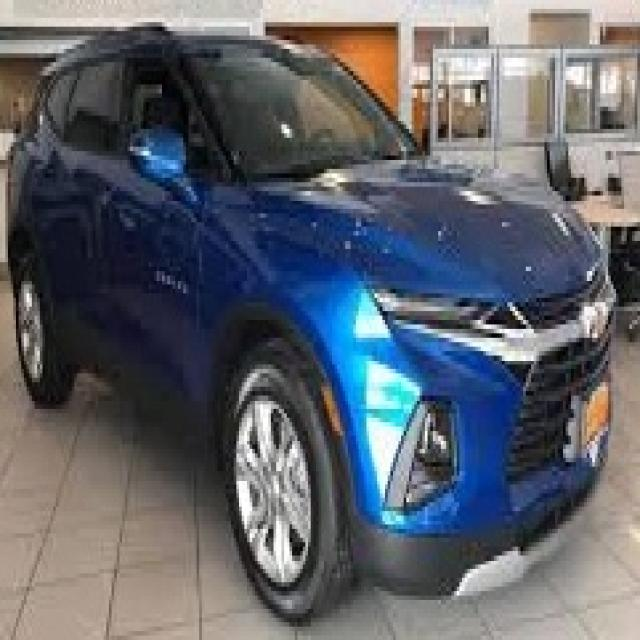blue: (6, 26, 612, 620)
